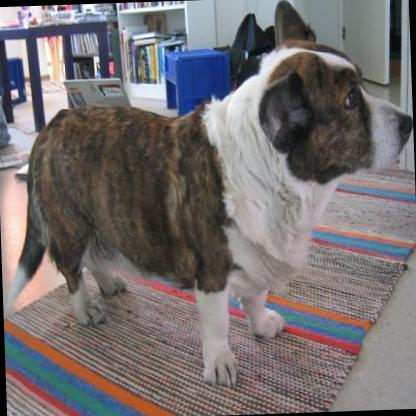Cardigan: (0, 0, 416, 396)
